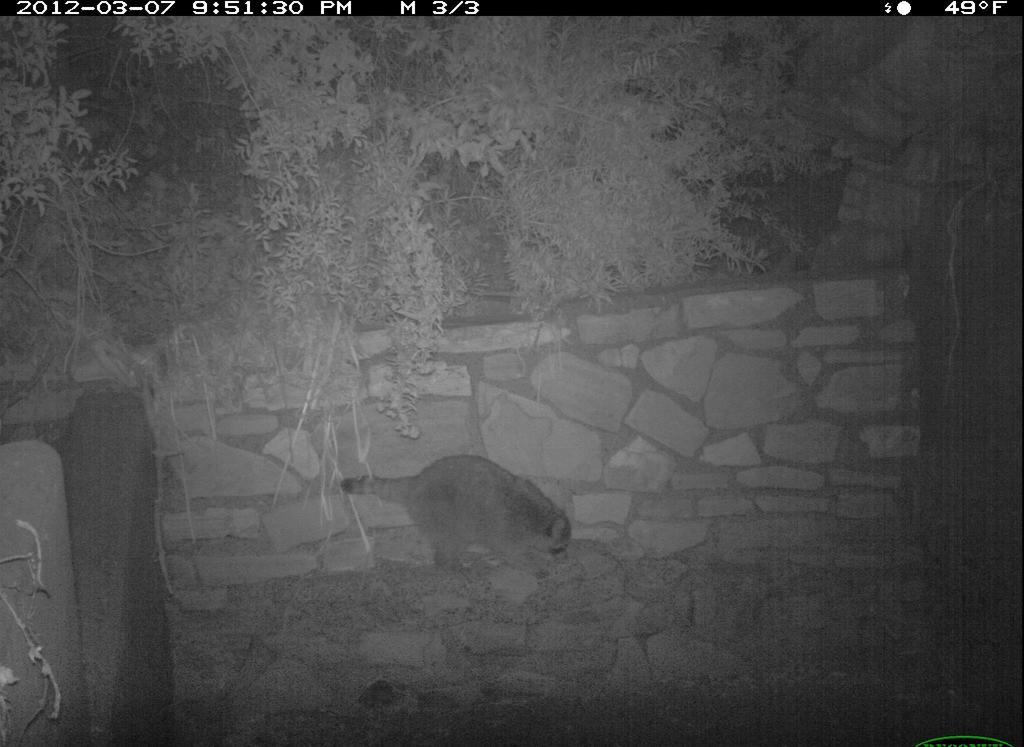raccoon: (326, 434, 584, 587)
